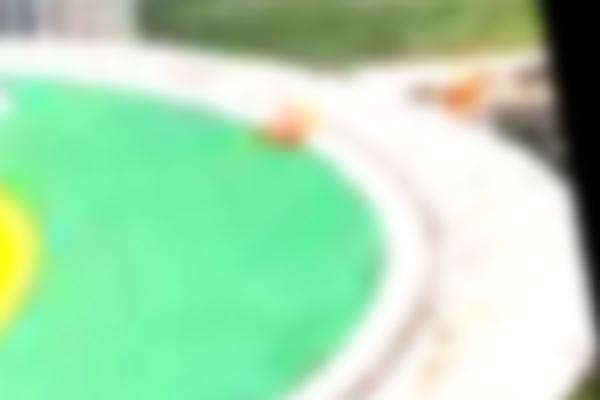Apron: (1, 186, 52, 342)
